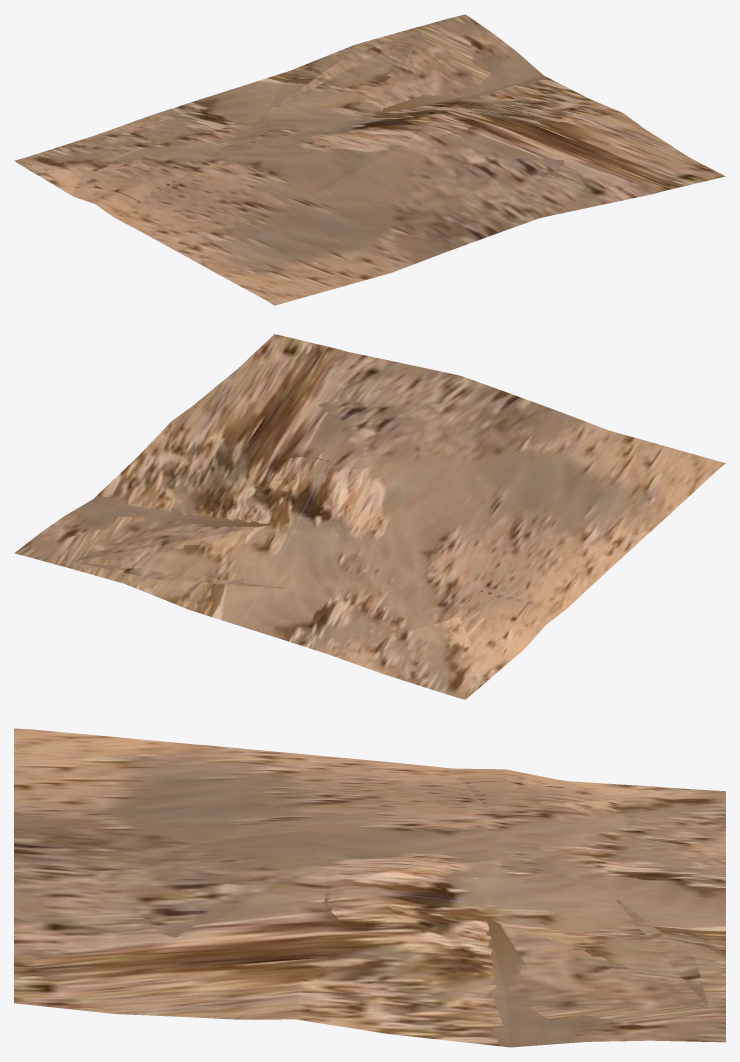
3 renders of one model, top to bottom at view 1: azimuth 30°, elevation 25°; view 2: azimuth 150°, elevation 25°; view 3: azimuth 270°, elevation 25°, orthographic. The views are drawn at different scales.
Size of the model in its own units: 1.04 by 0.1519 by 1.04.
Materials: 3 (3 with a texture image).
